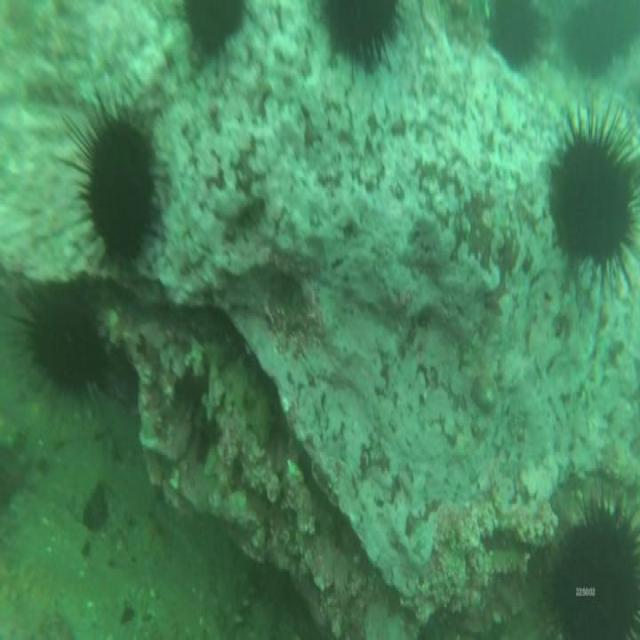echinus: (549, 109, 640, 294), (65, 97, 164, 266), (545, 480, 640, 640), (25, 283, 109, 400), (318, 0, 410, 76), (179, 0, 250, 66), (488, 0, 547, 77), (562, 5, 618, 84)
holothurian: (204, 335, 274, 446)
